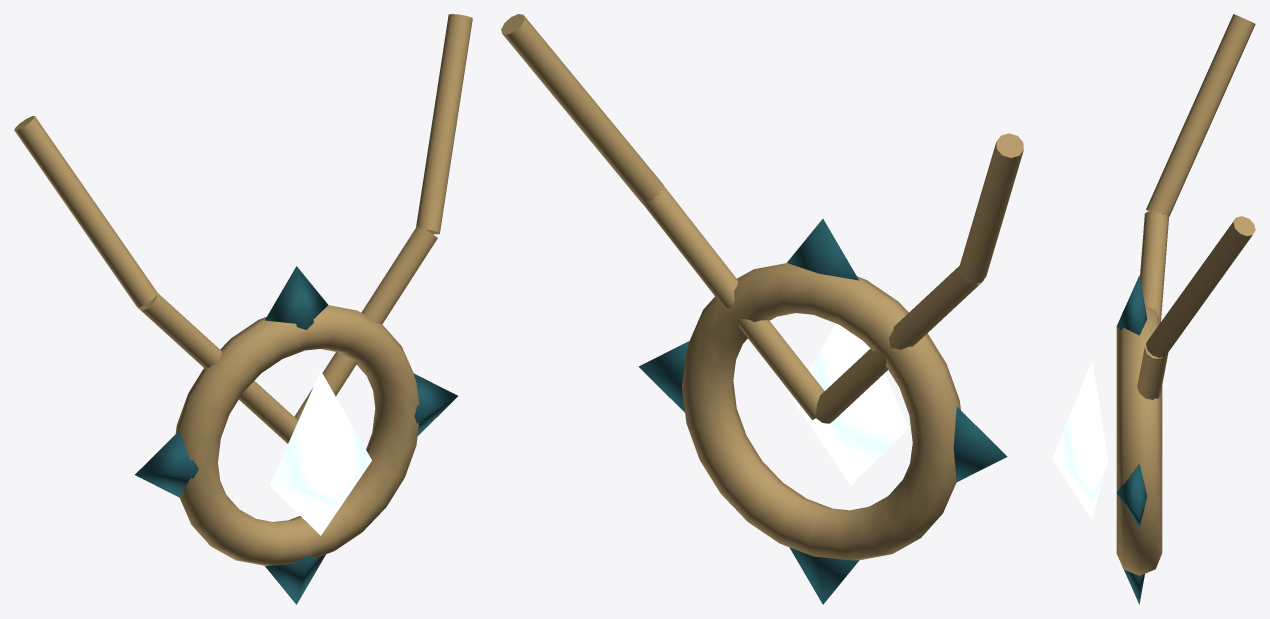
The model's file is boss_sunken_crown_accessory_4.glb.
The picture shows the model from 3 angles, left to right: view 1: azimuth 30°, elevation 25°; view 2: azimuth 150°, elevation 25°; view 3: azimuth 270°, elevation 25°; orthographic projection. The views are drawn at different scales.
Visible parts, largest first — view 1: Boss_sunken_crown_1, Boss_sunken_crown_2, Boss_sunken_crown_0; view 2: Boss_sunken_crown_1, Boss_sunken_crown_0, Boss_sunken_crown_2; view 3: Boss_sunken_crown_1, Boss_sunken_crown_2, Boss_sunken_crown_0.
Part boxes in pixels (box(x1,y1,x2,y2)): Boss_sunken_crown_1: box(14, 14, 472, 565); Boss_sunken_crown_2: box(269, 371, 371, 535); Boss_sunken_crown_0: box(135, 266, 457, 604); Boss_sunken_crown_1: box(501, 14, 1023, 560); Boss_sunken_crown_0: box(638, 219, 1007, 604); Boss_sunken_crown_2: box(792, 323, 908, 485); Boss_sunken_crown_1: box(1116, 14, 1255, 575); Boss_sunken_crown_2: box(1052, 360, 1107, 519); Boss_sunken_crown_0: box(1117, 275, 1147, 604).
Size of the model in its own units: 0.2925 by 0.308 by 0.1162.
